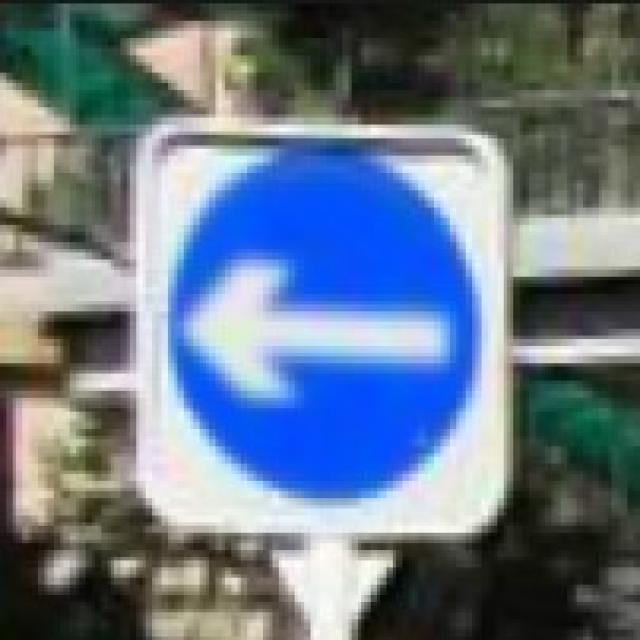Turn Left: (161, 138, 475, 494)
